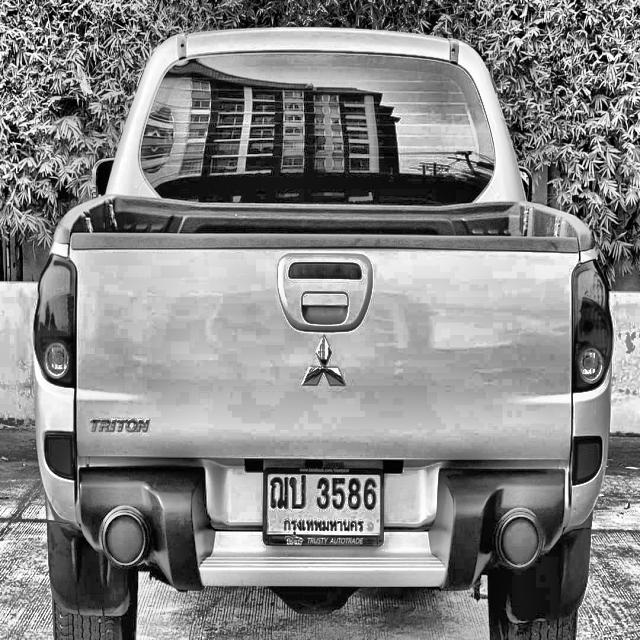license-plate: (261, 464, 386, 550)
